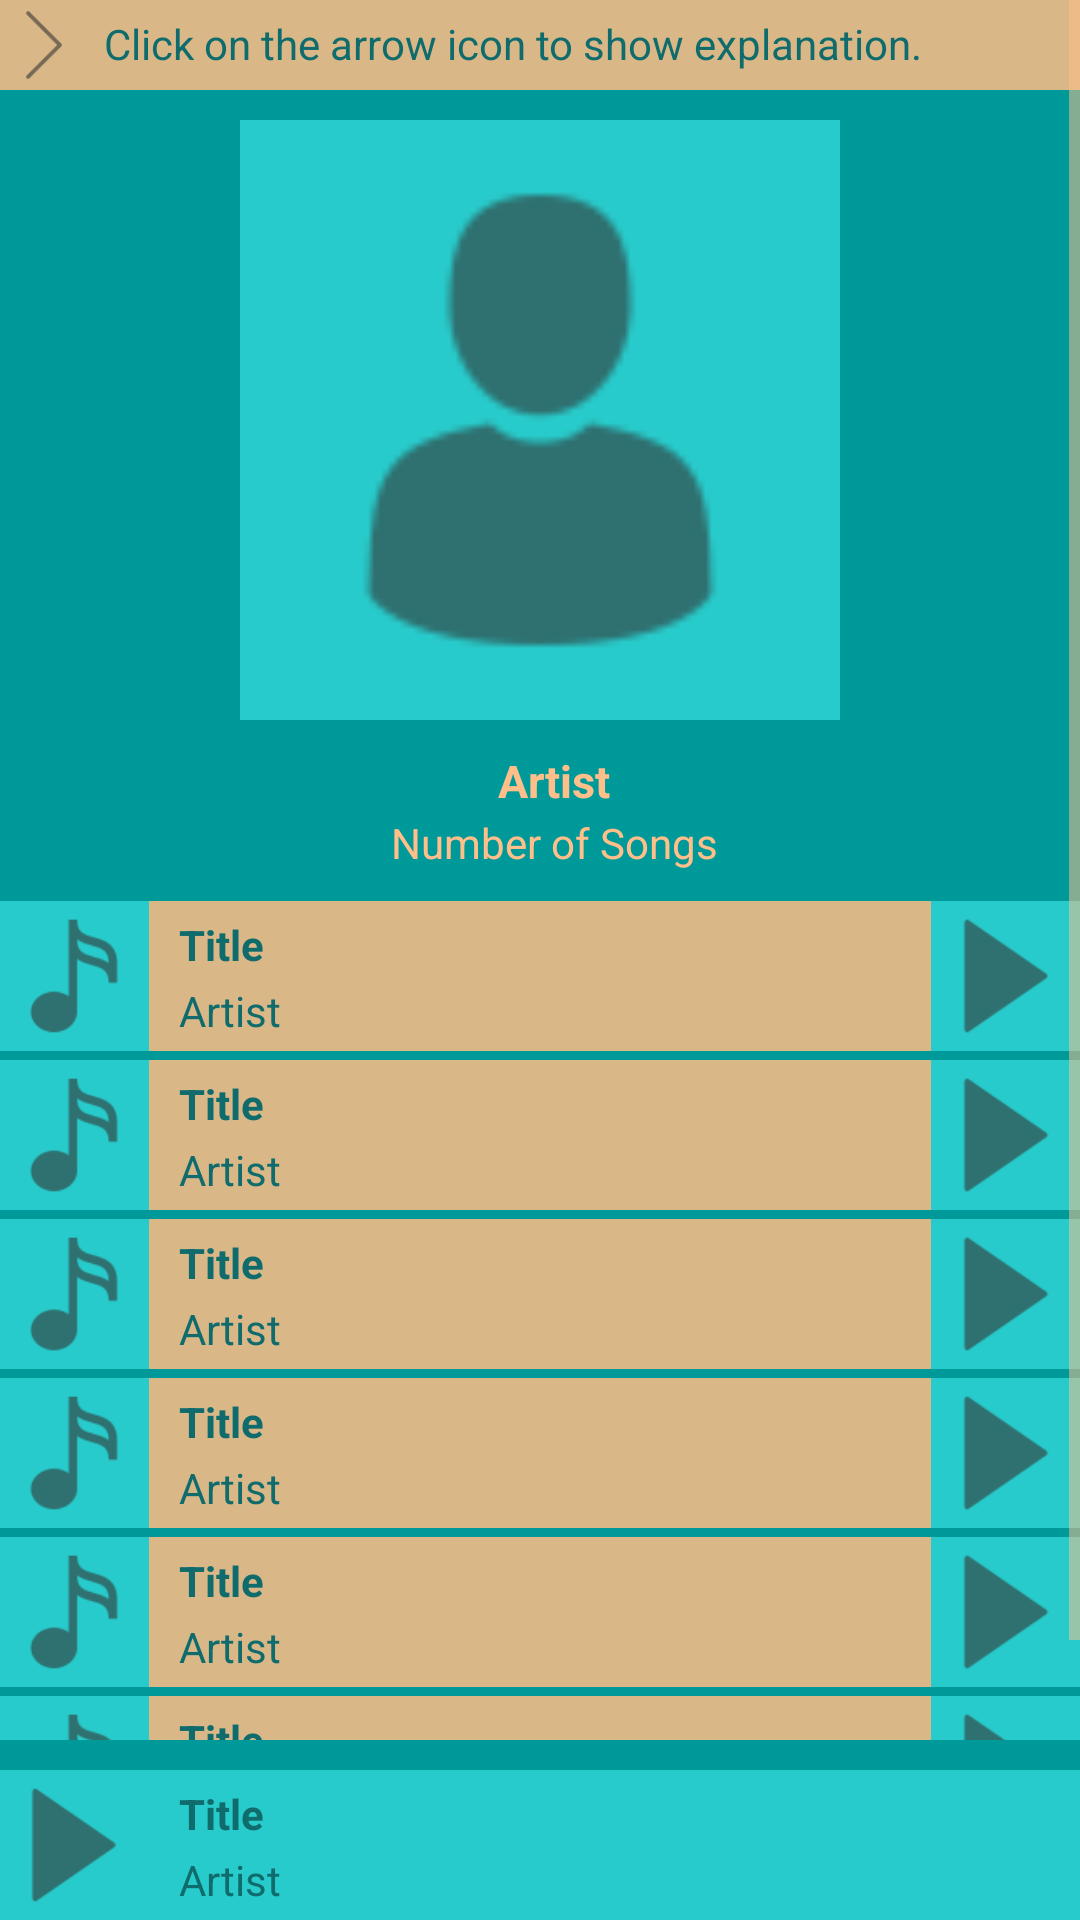

Where to tap for icons on this 1080x1920 app screen, as point (x, y):
arrow side: point (44, 45)
